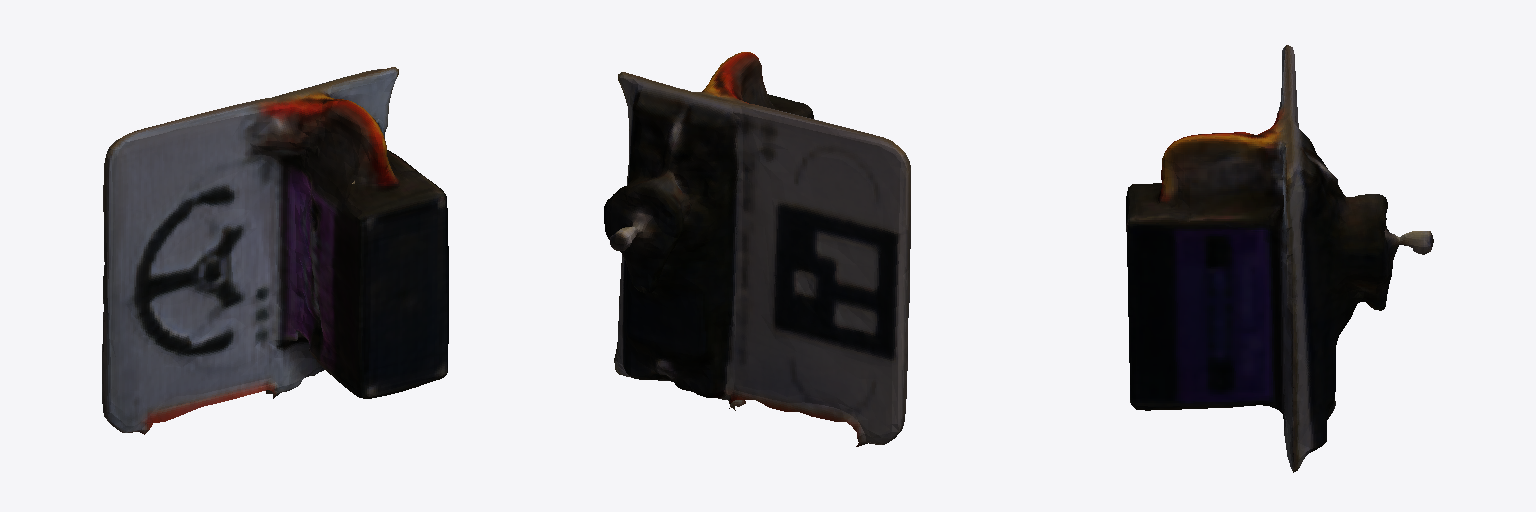
3 renders of one model, left to right at view 1: azimuth 30°, elevation 25°; view 2: azimuth 150°, elevation 25°; view 3: azimuth 270°, elevation 25°, orthographic.
Visible parts, largest first — view 1: mesh; view 2: mesh; view 3: mesh.
Part boxes in pixels (x1,y1,x2,y2): mesh: (102,67,448,434); mesh: (604,52,910,446); mesh: (1126,45,1433,472).
Size of the model in its own units: 35.76 by 36.3 by 32.41.
Materials: 1 (1 with a texture image).